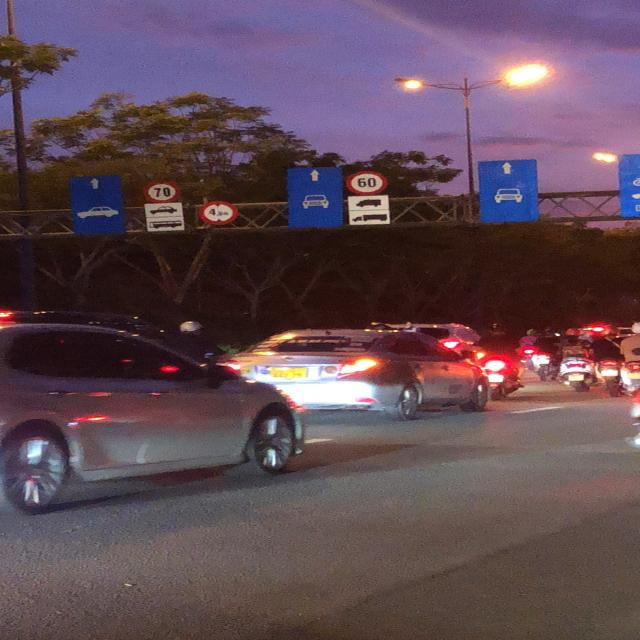Bien bao han che chieu cao: (196, 200, 240, 225)
Bien bao toc do toi da cho phep: (344, 170, 390, 198), (140, 178, 182, 206)
